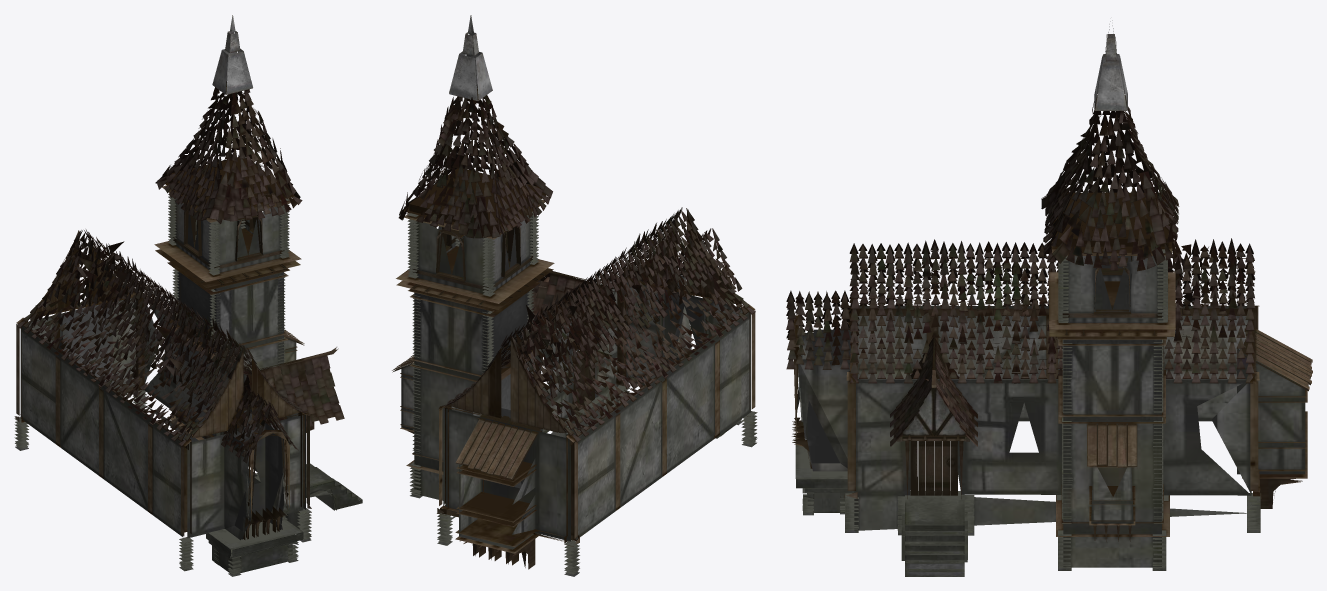
File: temple.glb
3 views of the same model, side by side, from view 1: azimuth 30°, elevation 25°; view 2: azimuth 150°, elevation 25°; view 3: azimuth 270°, elevation 25° (orthographic). The views are drawn at different scales.
Bounding box in the file's own units: 3.17 × 6 × 5.33.
Materials: 5 (5 with a texture image).
